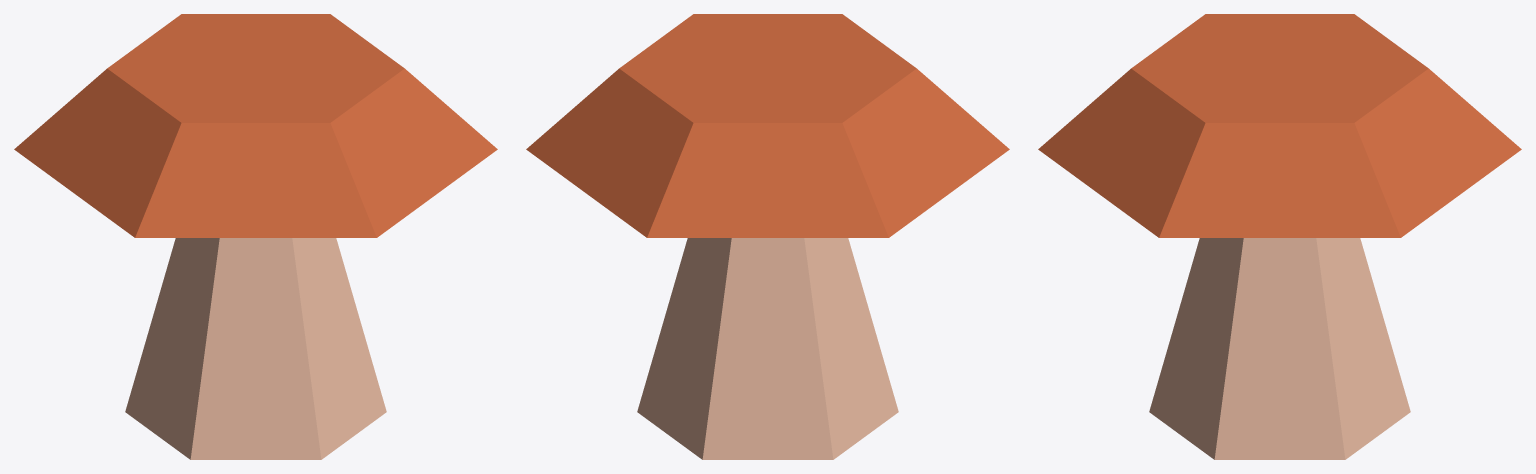
File: hongo2.fbx
3 renders of one model, left to right at view 1: azimuth 30°, elevation 25°; view 2: azimuth 150°, elevation 25°; view 3: azimuth 270°, elevation 25°, orthographic.
Visible parts, largest first — view 1: Cylinder.001; view 2: Cylinder.001; view 3: Cylinder.001.
Boxes of the visible parts, x1=… form: Cylinder.001: x1=14, y1=14, x2=497, y2=459; Cylinder.001: x1=526, y1=14, x2=1009, y2=459; Cylinder.001: x1=1038, y1=14, x2=1521, y2=459.
Bounding box in the file's own units: 59.28 × 53.64 × 68.45.
